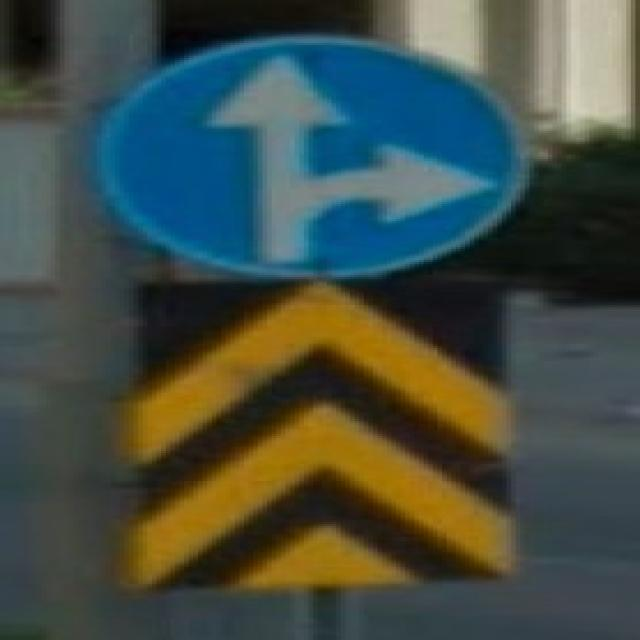Straight or Right: (96, 36, 515, 277)
